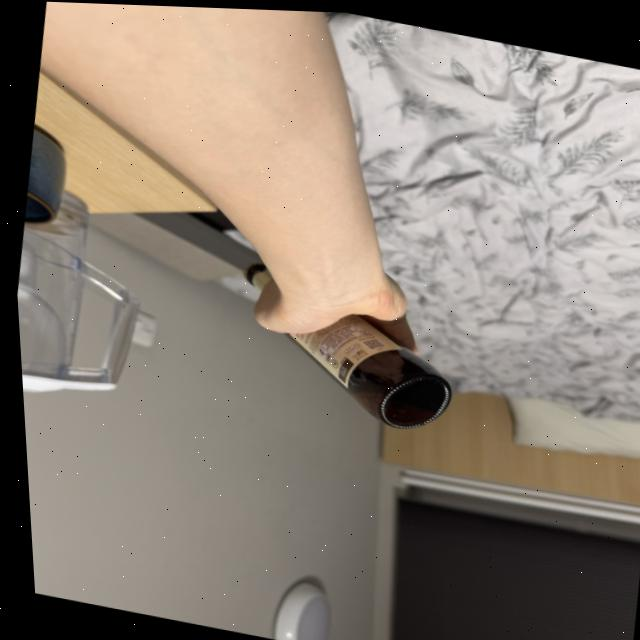beer: (219, 257, 467, 441)
